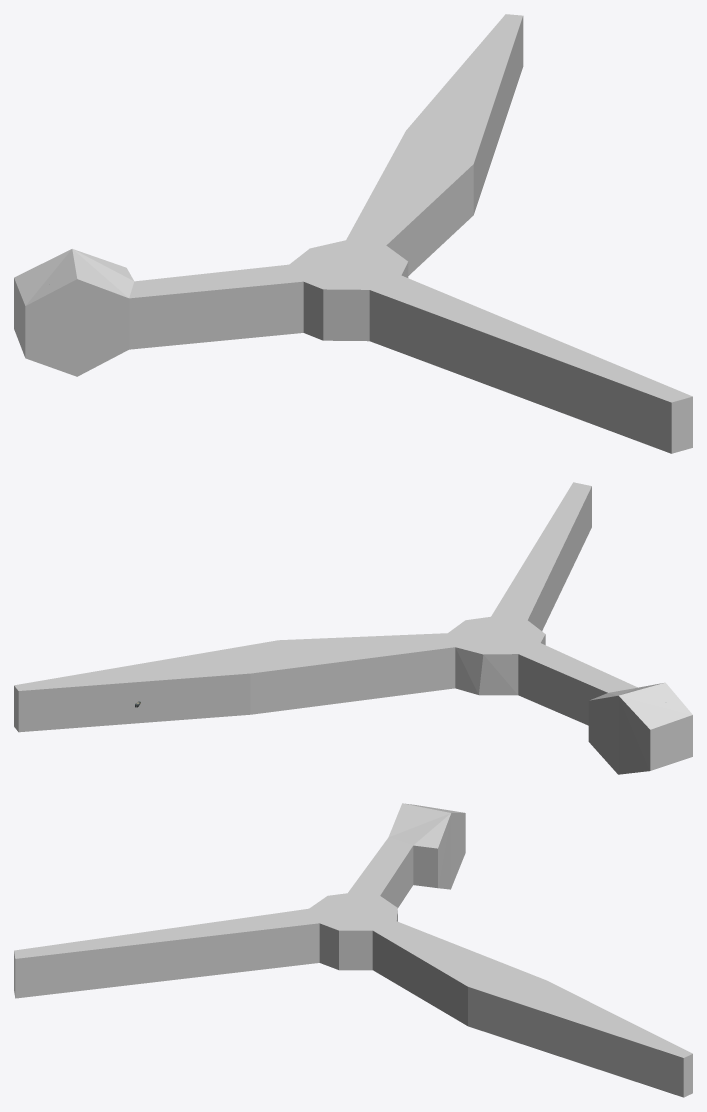
Rendered from CommArray 1.fbx.
3 views of the same model, one above another, from view 1: azimuth 30°, elevation 25°; view 2: azimuth 150°, elevation 25°; view 3: azimuth 270°, elevation 25° (orthographic). The views are drawn at different scales.
Visible parts, largest first — view 1: ComArrayColMesh; view 2: ComArrayColMesh; view 3: ComArrayColMesh.
Boxes of the visible parts, box(x1,y1,x2,y2) form: ComArrayColMesh: box(14, 14, 692, 453); ComArrayColMesh: box(14, 482, 692, 774); ComArrayColMesh: box(14, 803, 692, 1097).
Size of what is drawn, in the model's own units: 2565 by 361 by 2910.
